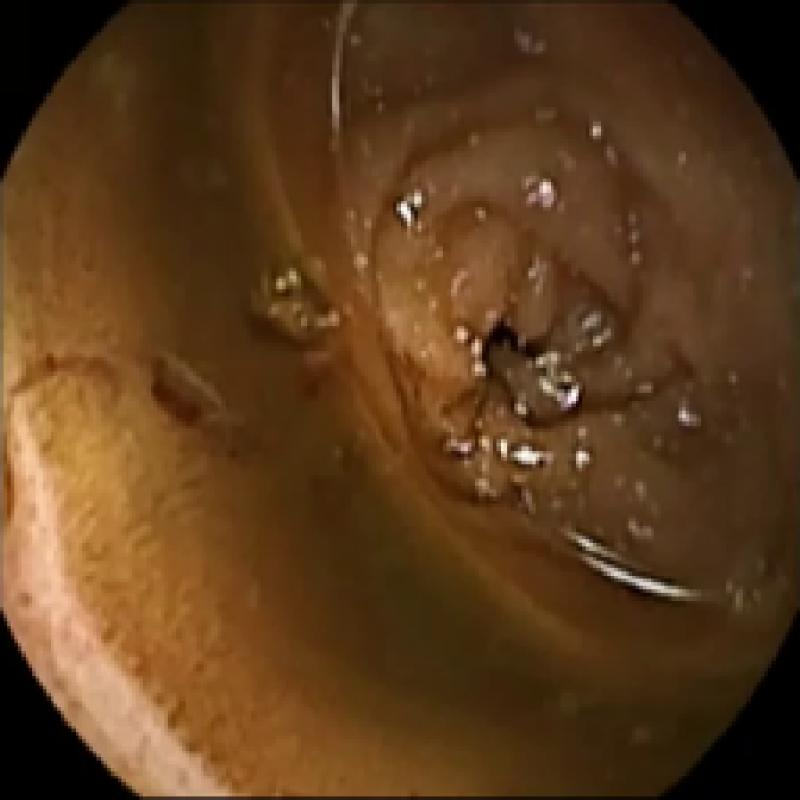bleeding: (0, 346, 118, 511), (142, 352, 211, 432)
